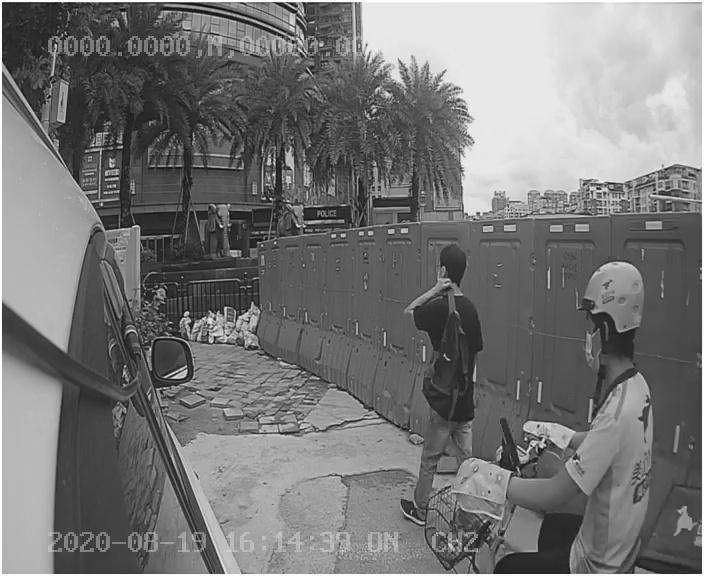person: (385, 241, 496, 480)
